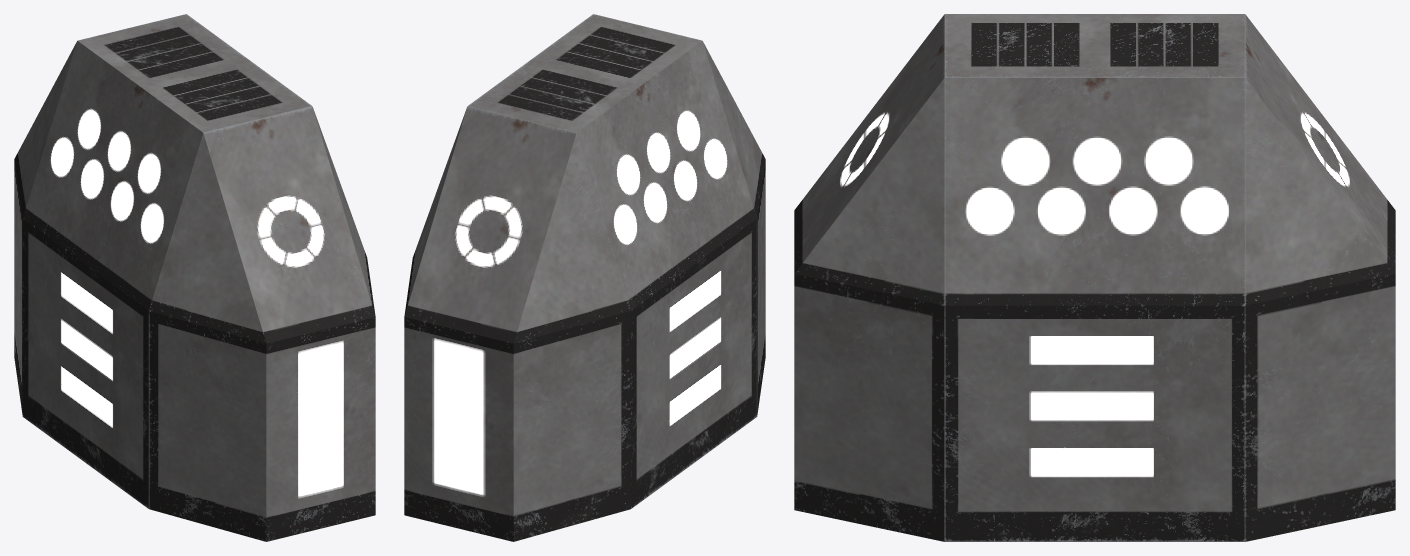
File: tower_m_3.fbx
3 views of the same model, side by side, from view 1: azimuth 30°, elevation 25°; view 2: azimuth 150°, elevation 25°; view 3: azimuth 270°, elevation 25° (orthographic). The views are drawn at different scales.
Parts seen in each view (by area): view 1: tower_m_3; view 2: tower_m_3; view 3: tower_m_3.
Part boxes in pixels (x1,y1,x2,y2): tower_m_3: [14, 14, 375, 541]; tower_m_3: [404, 14, 765, 541]; tower_m_3: [794, 14, 1395, 541].
Bounding box in the file's own units: 6.8 × 10.8 × 13.6.
